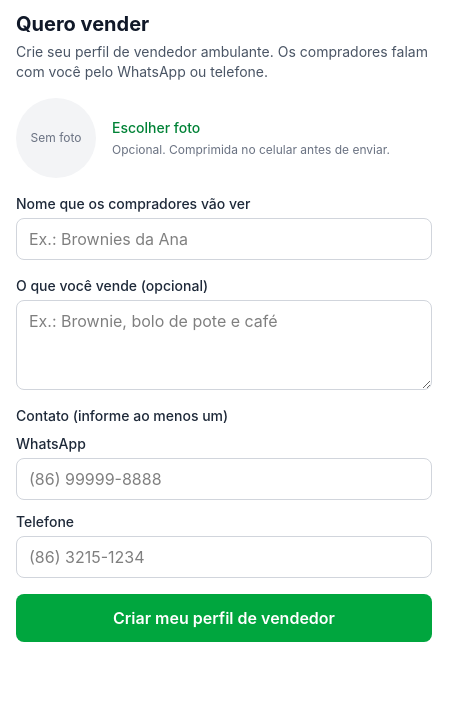
Test case: QueroVenderPage › mostra os erros de nome e contato e não salva (RN06)
Click the button "Criar meu perfil de vendedor" at (224, 618), box [16,594,432,642]
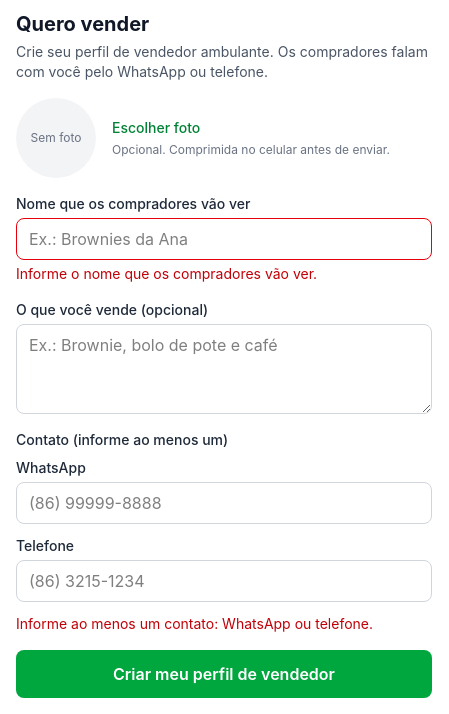
Check: the text "Informe o nome que os compradores vão ver." is shown, box [16,265,317,282]
Check: the text "Informe ao menos um contato: WhatsApp ou telefone." is shown, box [16,614,432,634]
